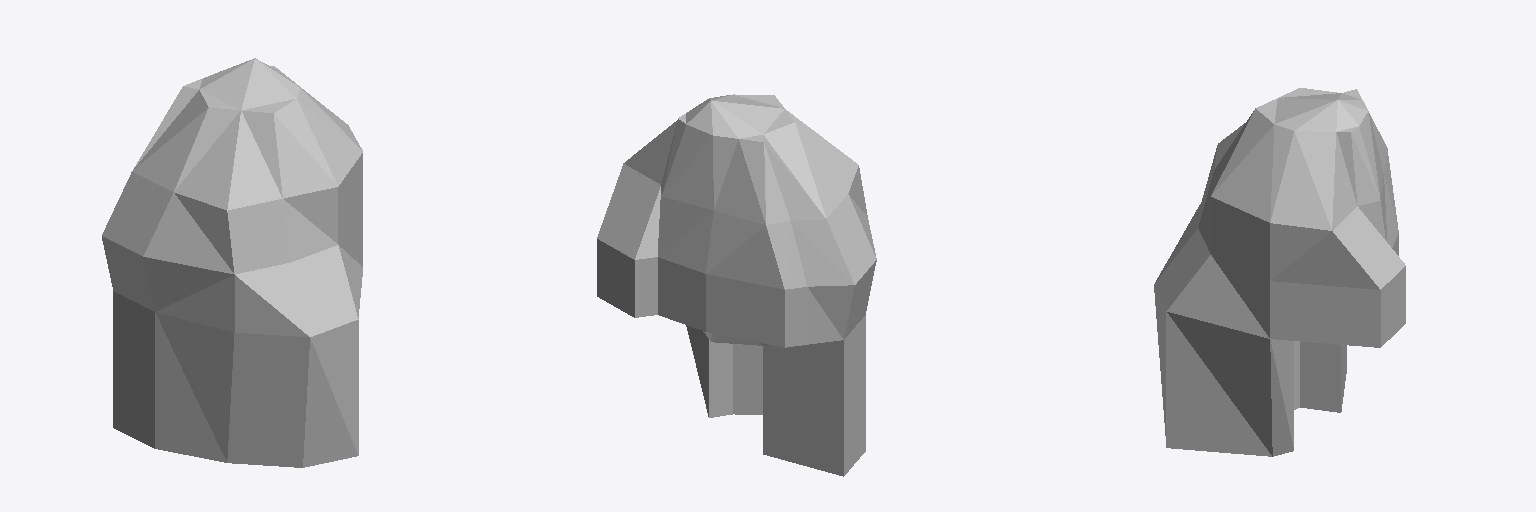
Rendered from mountain.obj.
3 renders of one model, left to right at view 1: azimuth 30°, elevation 25°; view 2: azimuth 150°, elevation 25°; view 3: azimuth 270°, elevation 25°, orthographic.
Visible parts, largest first — view 1: mountain; view 2: mountain; view 3: mountain.
Boxes of the visible parts, box(x1,y1,x2,y2) form: mountain: box(102, 58, 362, 467); mountain: box(597, 94, 876, 476); mountain: box(1154, 88, 1405, 456).
Size of the model in its own units: 30.37 by 40.79 by 27.47.